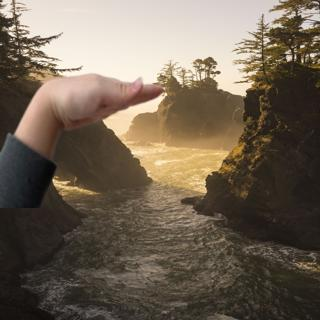Wait: (29, 60, 169, 133)
